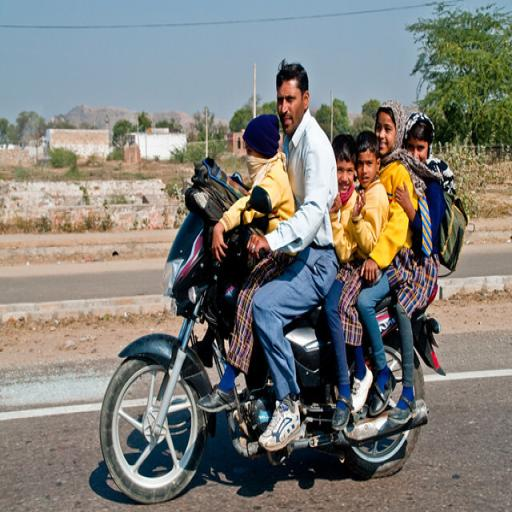helmet: (98, 154, 444, 504)
